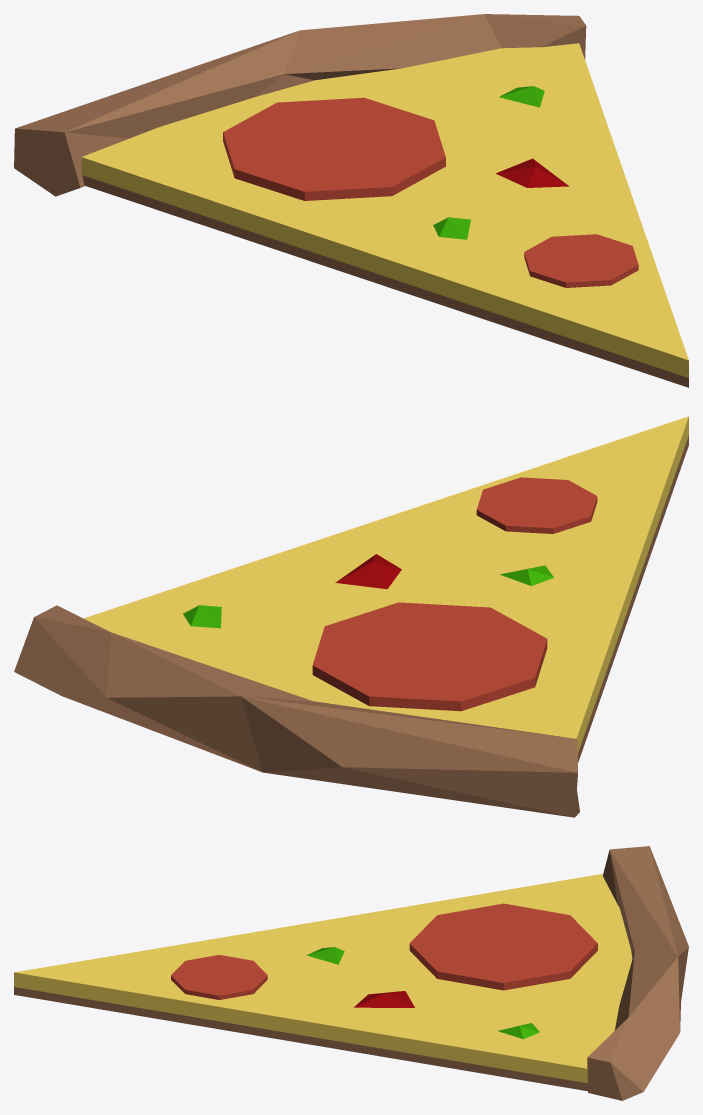
File: Pizza_Slice.glb
3 views of the same model, one above another, from view 1: azimuth 30°, elevation 25°; view 2: azimuth 150°, elevation 25°; view 3: azimuth 270°, elevation 25° (orthographic). The views are drawn at different scales.
Visible parts, largest first — view 1: Pizza_Slice; view 2: Pizza_Slice; view 3: Pizza_Slice.
Part boxes in pixels (<box>): Pizza_Slice: <box>14,14,688,387</box>; Pizza_Slice: <box>14,416,688,817</box>; Pizza_Slice: <box>14,846,688,1100</box>.
Size of the model in its own units: 0.3208 by 0.0397 by 0.4208.
1 material, 1 textured.
